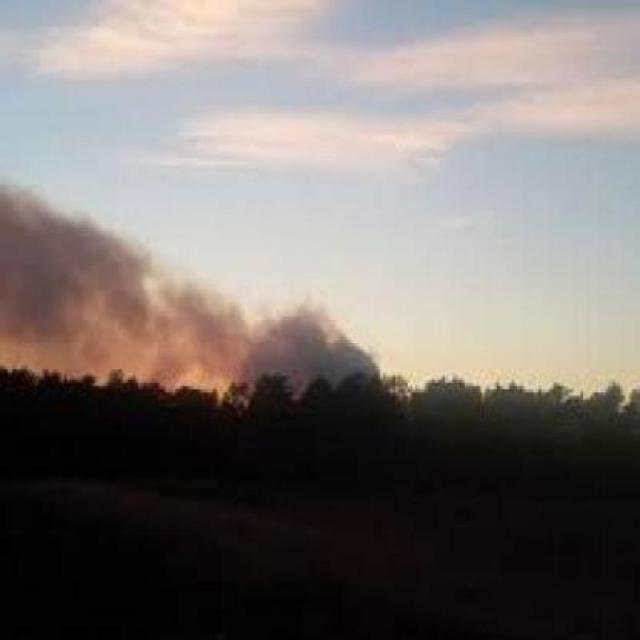Smoke: (0, 158, 405, 440)
